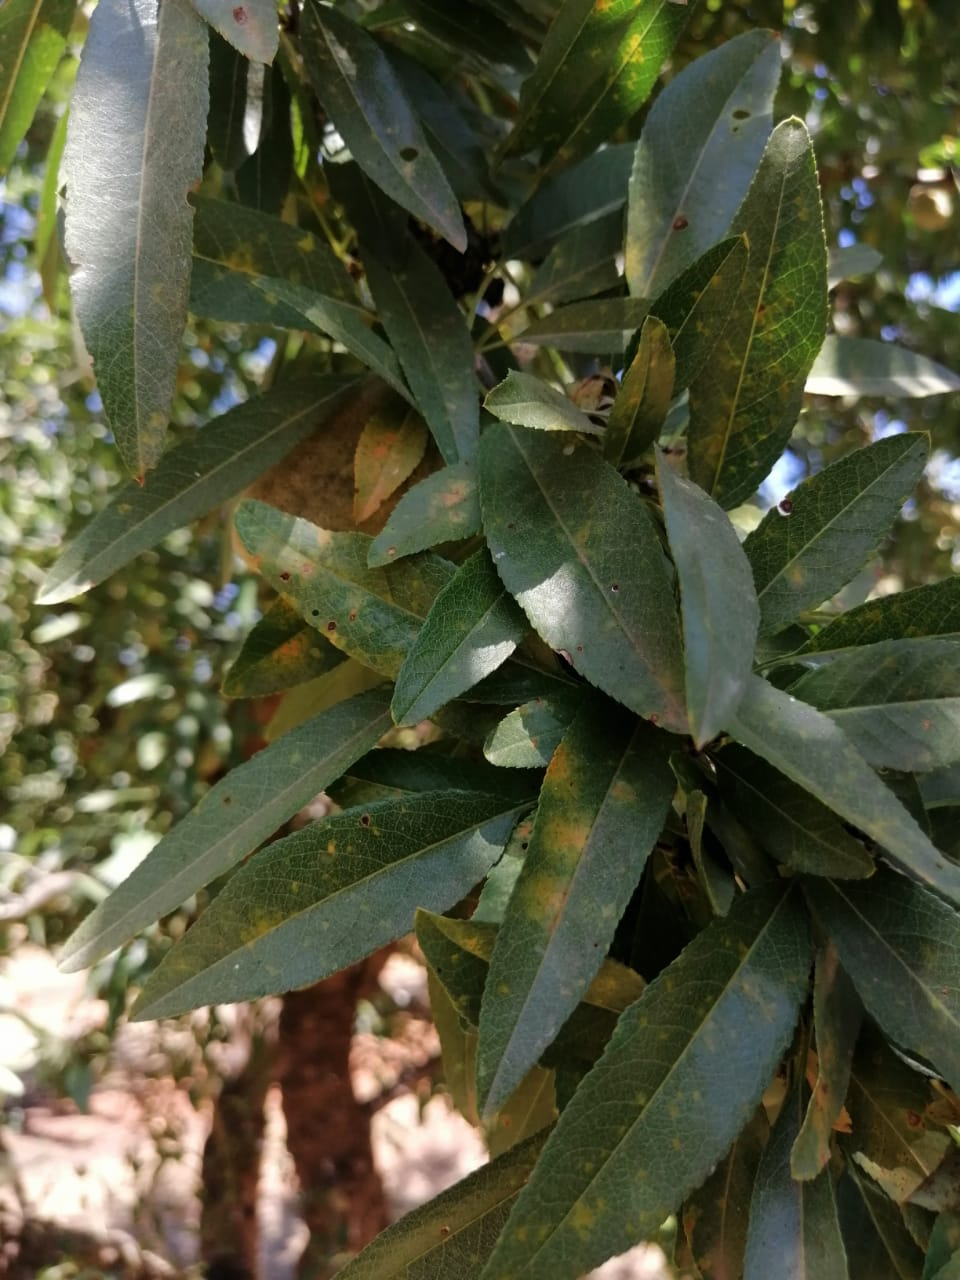rouille: (52, 687, 396, 976), (475, 422, 696, 740), (694, 117, 830, 517), (624, 25, 783, 306), (236, 494, 467, 683), (336, 1119, 560, 1280), (183, 1, 280, 67)
